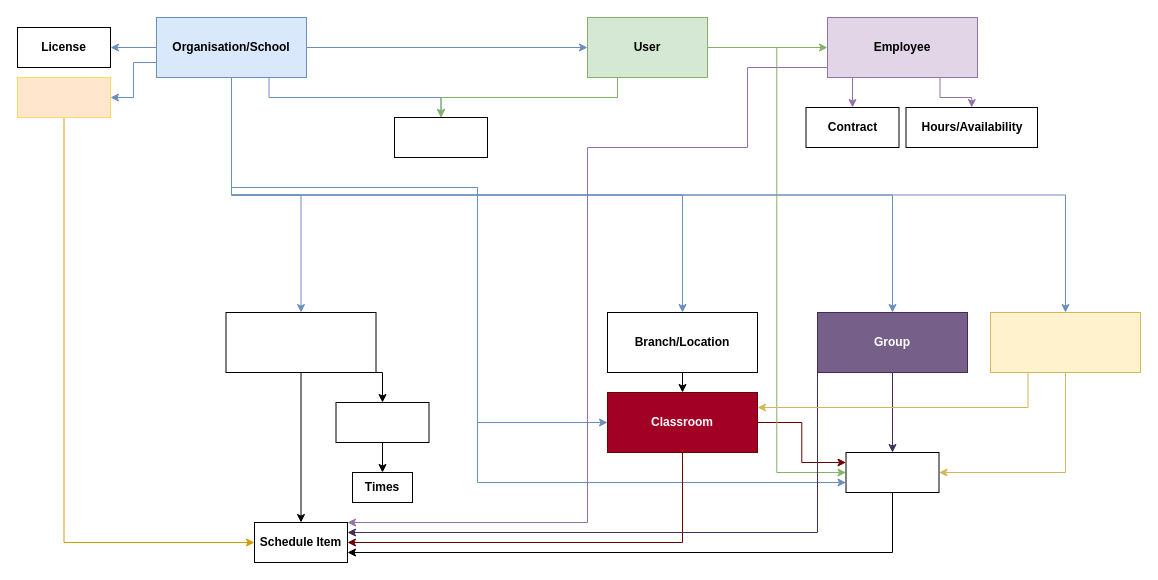
Some shapes in this 1158 by 580 pixel diagram are drawn without their labels. The box of each missing label's shape, as (x1, y1, x2, y2) in pixels:
Lesson: (845, 452, 939, 492)
Schedule: (225, 312, 376, 372)
Tasks: (16, 76, 110, 118)
Timetables: (335, 402, 429, 442)
Token: (394, 116, 488, 158)
Variant: (990, 312, 1140, 372)
